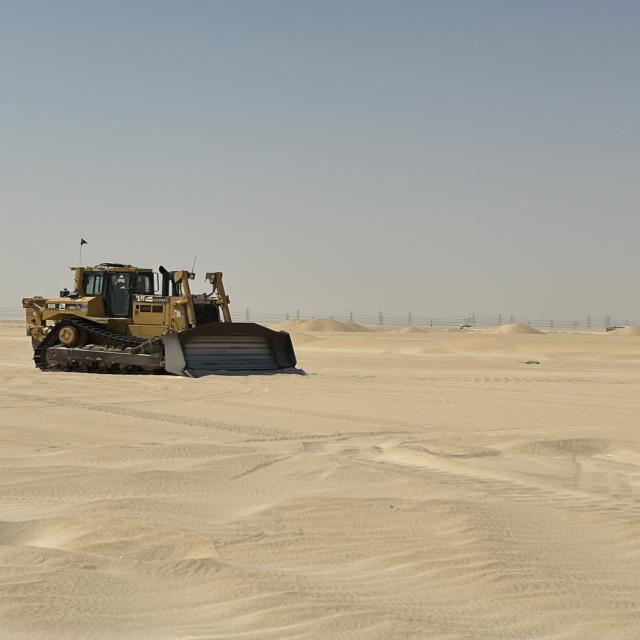buldozerpayloadergrader: (16, 236, 305, 382)
